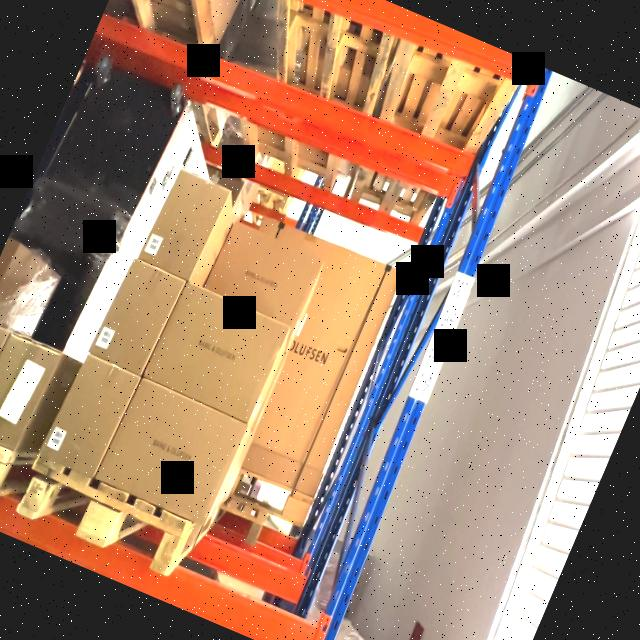box: (96, 382, 244, 523), (145, 287, 284, 421), (40, 358, 136, 474), (91, 263, 182, 372), (139, 174, 225, 278), (0, 337, 54, 445)
